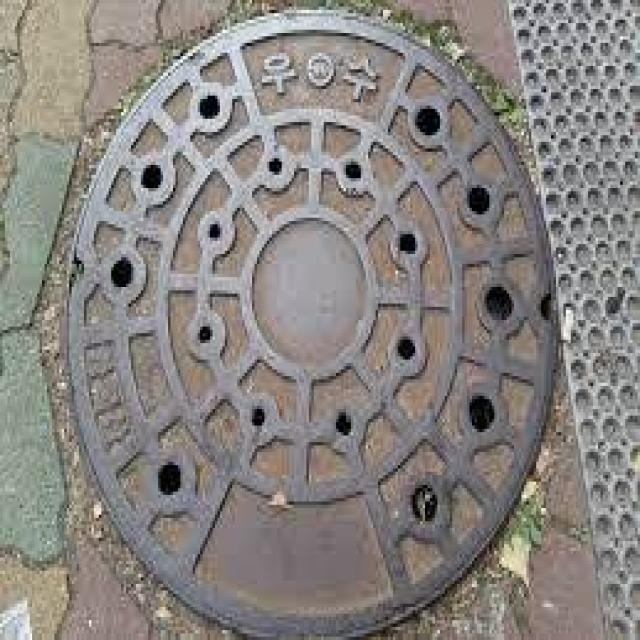Sewer Cover: (41, 3, 579, 640)
